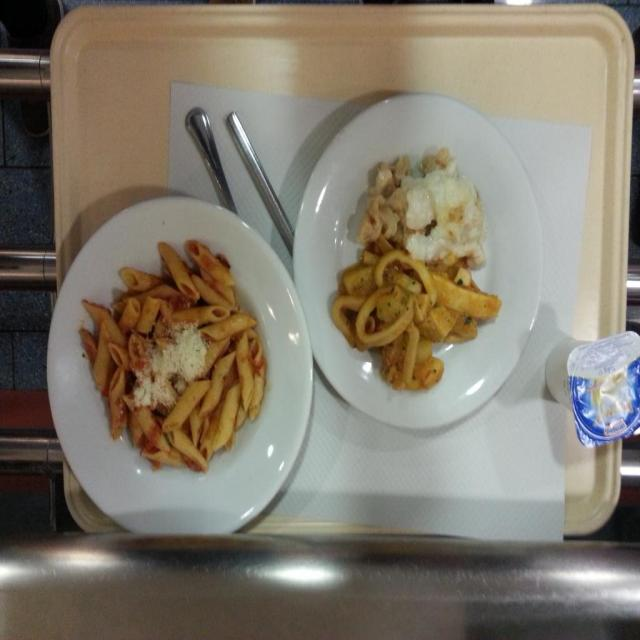plate: (44, 194, 316, 537), (291, 92, 541, 428)
